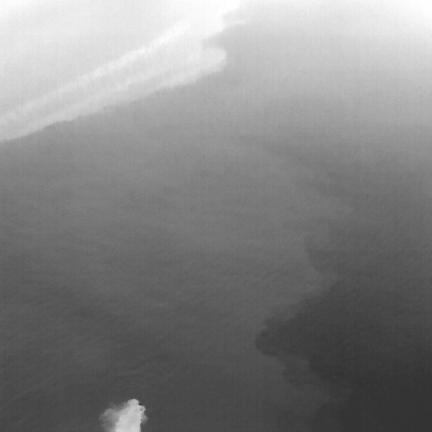flukeprints: (99, 399, 146, 431)
